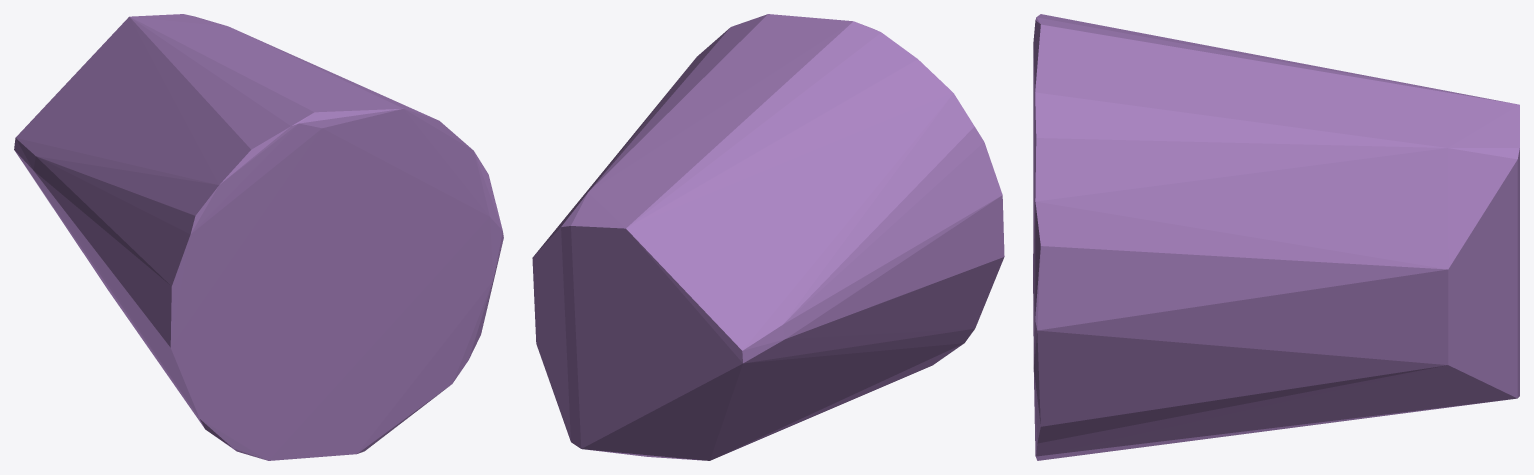
Rendered from consumable_cup_paper_a01.glb.
The picture shows the model from 3 angles, left to right: view 1: azimuth 30°, elevation 25°; view 2: azimuth 150°, elevation 25°; view 3: azimuth 270°, elevation 25°; orthographic projection. The views are drawn at different scales.
Parts seen in each view (by area): view 1: geometry_0; view 2: geometry_0; view 3: geometry_0.
Part boxes in pixels (left/top/right/bottom): geometry_0: left=14, top=14, right=503, bottom=460; geometry_0: left=532, top=14, right=1004, bottom=460; geometry_0: left=1033, top=14, right=1519, bottom=460.
Size of the model in its own units: 0.4446 by 0.445 by 0.48.
